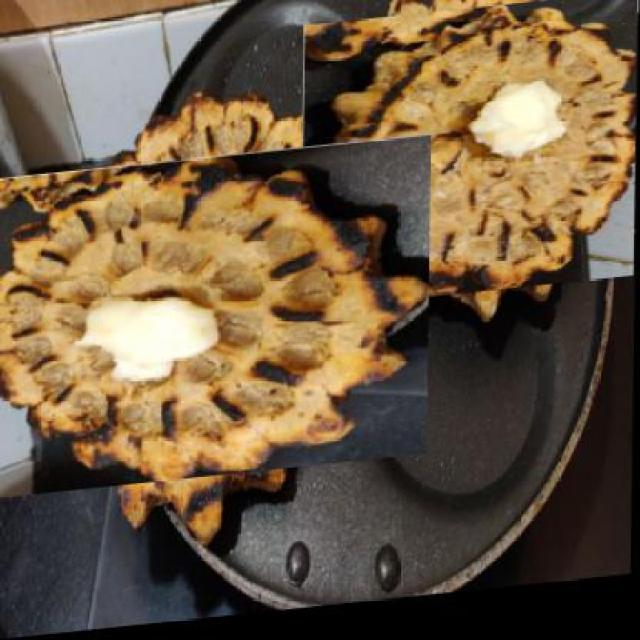chapati: (9, 113, 400, 532), (314, 0, 631, 331)
